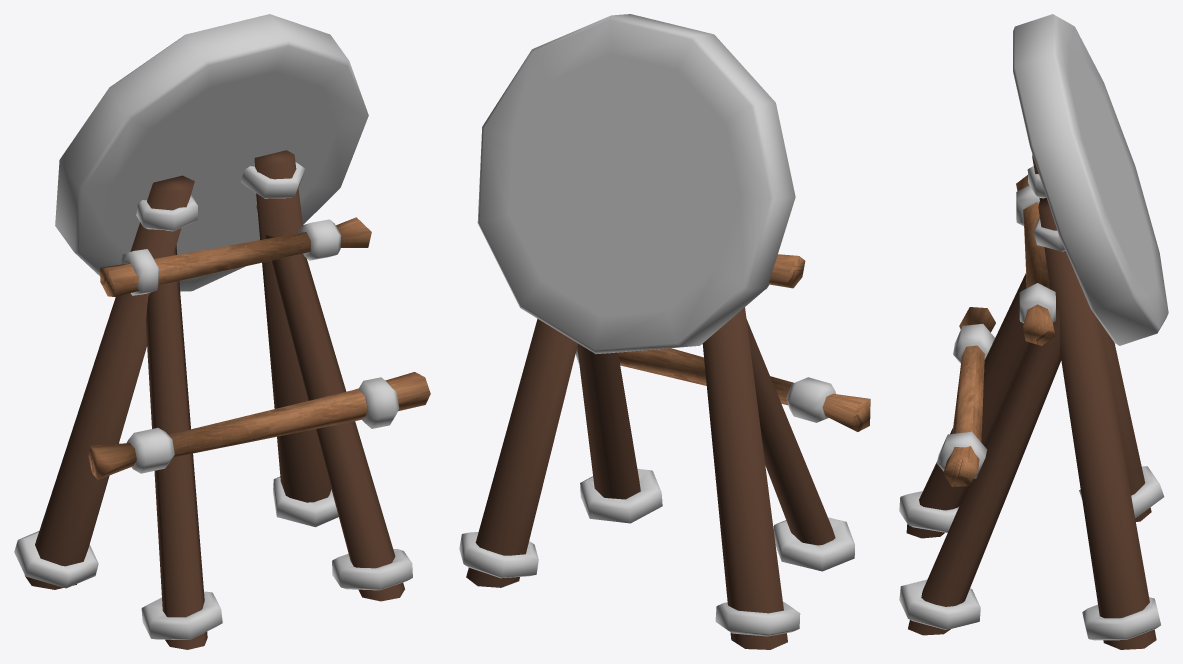
File: Arrow Target High.fbx
The picture shows the model from 3 angles, left to right: view 1: azimuth 30°, elevation 25°; view 2: azimuth 150°, elevation 25°; view 3: azimuth 270°, elevation 25°; orthographic projection.
Visible parts, largest first — view 1: Arrow Target High; view 2: Arrow Target High; view 3: Arrow Target High.
Boxes of the visible parts, x1=… form: Arrow Target High: x1=14, y1=14, x2=430, y2=649; Arrow Target High: x1=459, y1=14, x2=870, y2=649; Arrow Target High: x1=899, y1=14, x2=1168, y2=649.
Size of the model in its own units: 0.8367 by 1.33 by 0.593.
